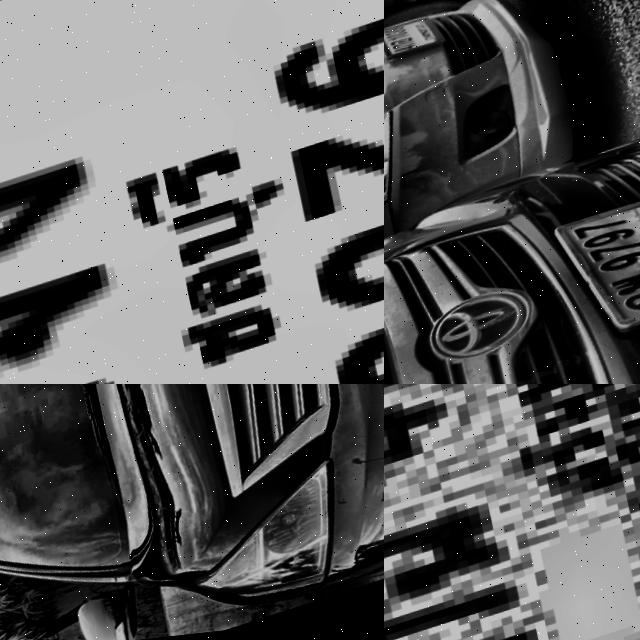license-plate: (0, 0, 384, 384), (384, 384, 640, 640), (545, 175, 640, 358)
